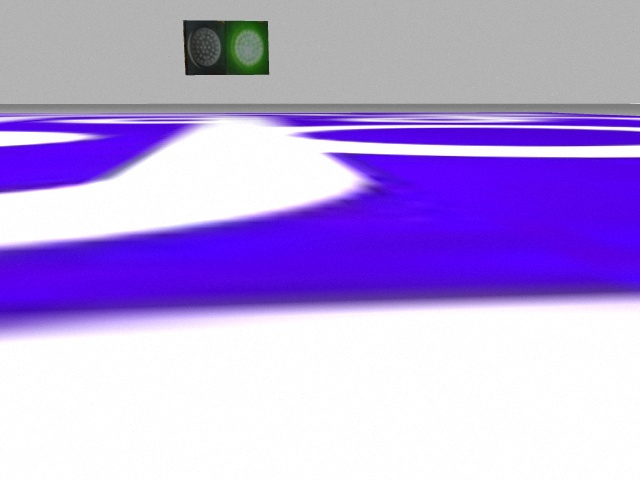green: (226, 20, 269, 74)
